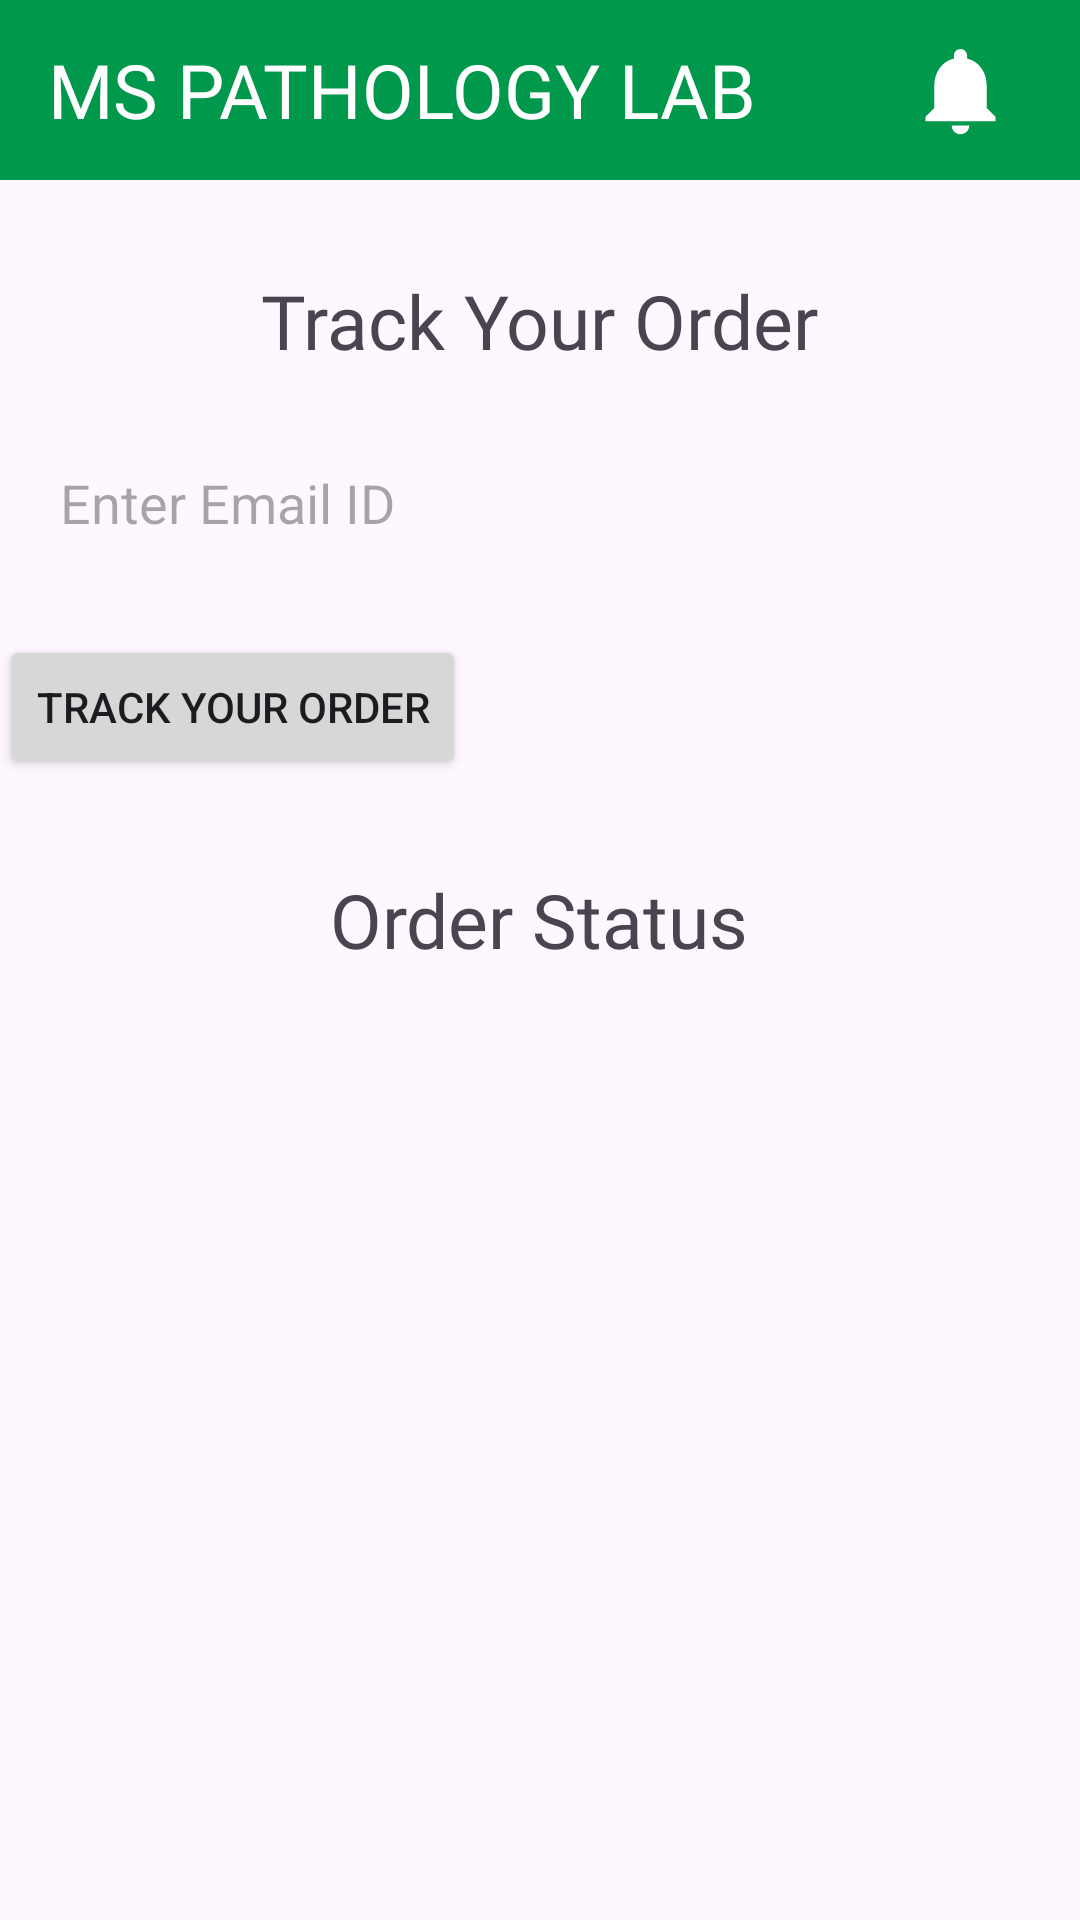

Screen size 1080px x 1920px. Icon name, then its box in pixels as (x1, y1, x2, y2):
Notification Button: (925, 49, 996, 135)
